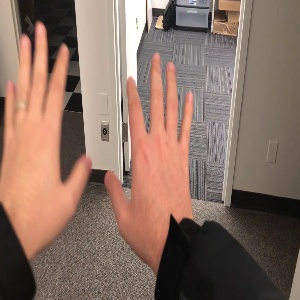hand: (2, 23, 91, 226), (104, 53, 193, 219)
